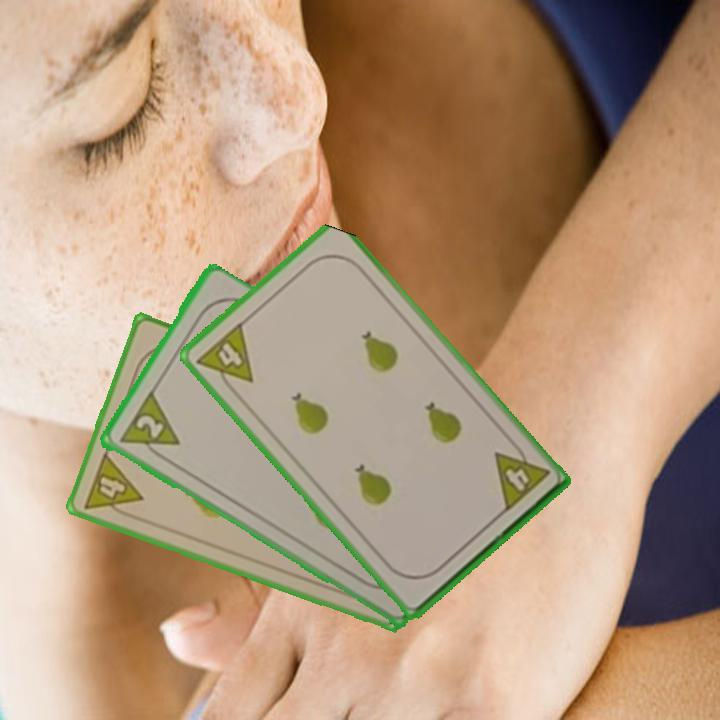2p: (114, 389, 183, 466)
4p: (193, 318, 256, 399), (79, 449, 146, 523), (490, 437, 552, 515)
